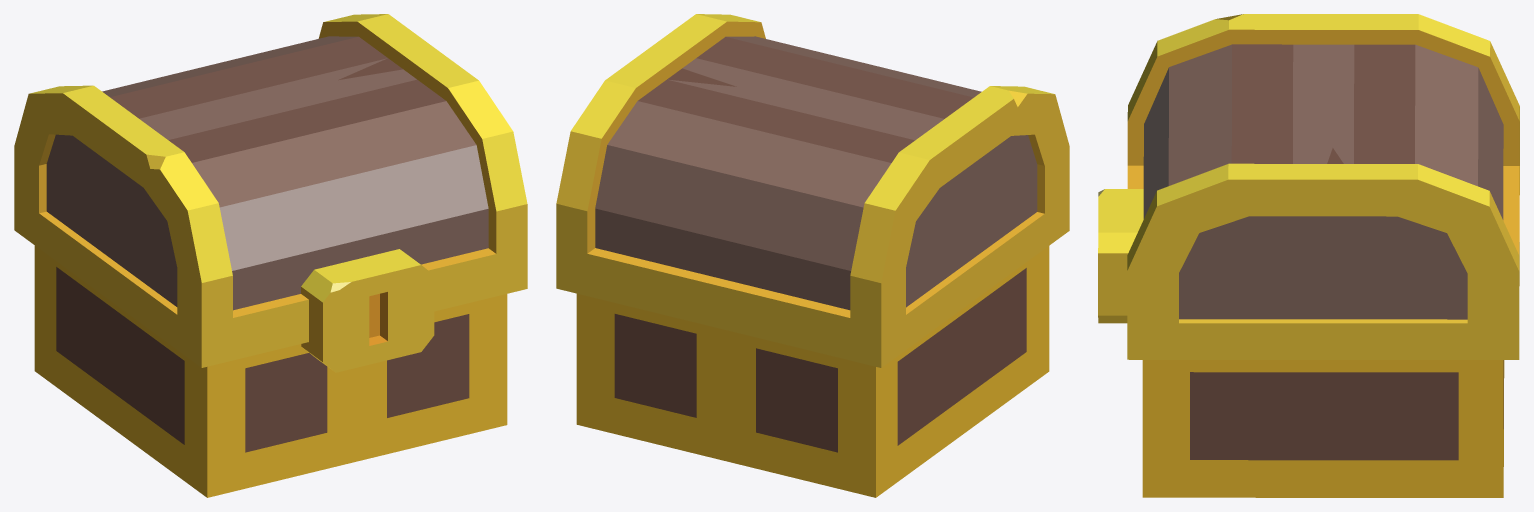
File: TreasureBox.fbx
3 renders of one model, left to right at view 1: azimuth 30°, elevation 25°; view 2: azimuth 150°, elevation 25°; view 3: azimuth 270°, elevation 25°, orthographic. The views are drawn at different scales.
Visible parts, largest first — view 1: Inventory_Cover, Inventory_Box; view 2: Inventory_Cover, Inventory_Box; view 3: Inventory_Cover, Inventory_Box.
Boxes of the visible parts, box(x1,y1,x2,y2) form: Inventory_Cover: box(14, 14, 527, 372); Inventory_Box: box(34, 245, 507, 497); Inventory_Cover: box(556, 14, 1069, 367); Inventory_Box: box(576, 246, 1049, 497); Inventory_Cover: box(1098, 14, 1519, 359); Inventory_Box: box(1142, 360, 1504, 497).
Bounding box in the file's own units: 1.49 × 1.36 × 1.6.
